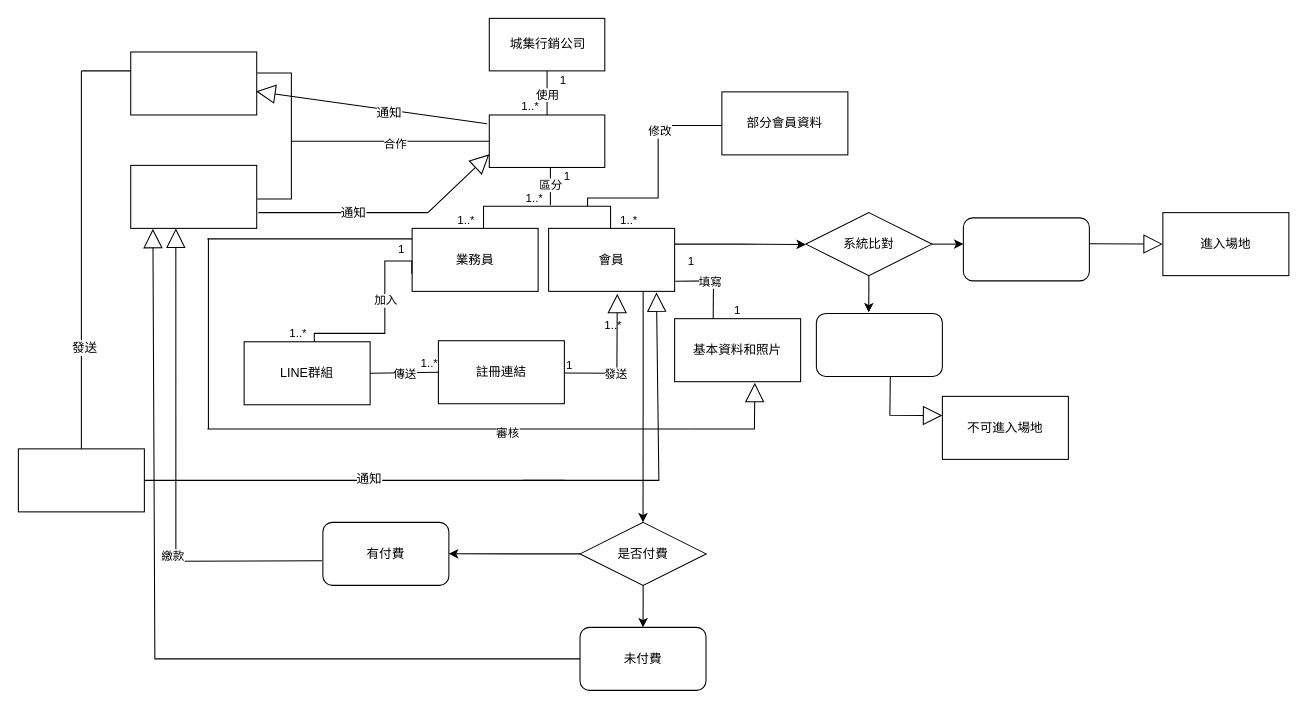
Some shapes in this 1307 by 709 pixel diagram are drawn without their labels. Each missing label, with the centre of its shape:
"簡訊" belongs at pixel 80 480.
"臉部辨識會員系統" belongs at pixel 546 140.
"華鐘電信" belongs at pixel 193 83.
"辨識失敗" belongs at pixel 878 344.
"辨識成功" belongs at pixel 1025 249.
"騎華銀行" belongs at pixel 193 196.
